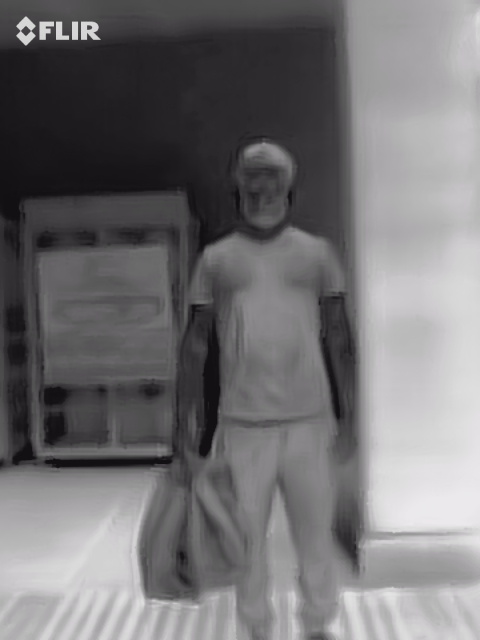head: (232, 140, 295, 229)
